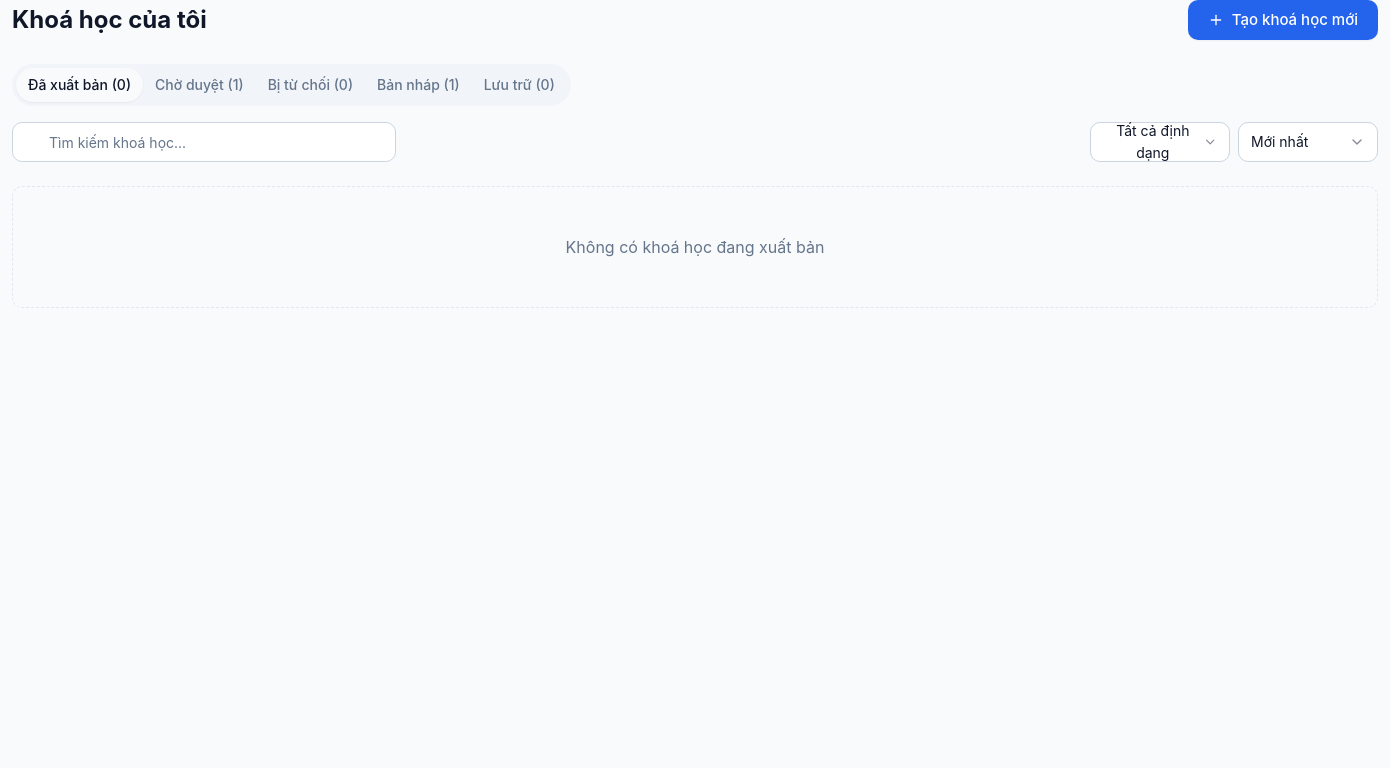
Test: /teacher/courses — nút xoá theo trạng thái › khoá nháp: vẫn có nút xoá
Click the tab "Bản nháp (1)": (418, 85) [365,68,472,102]
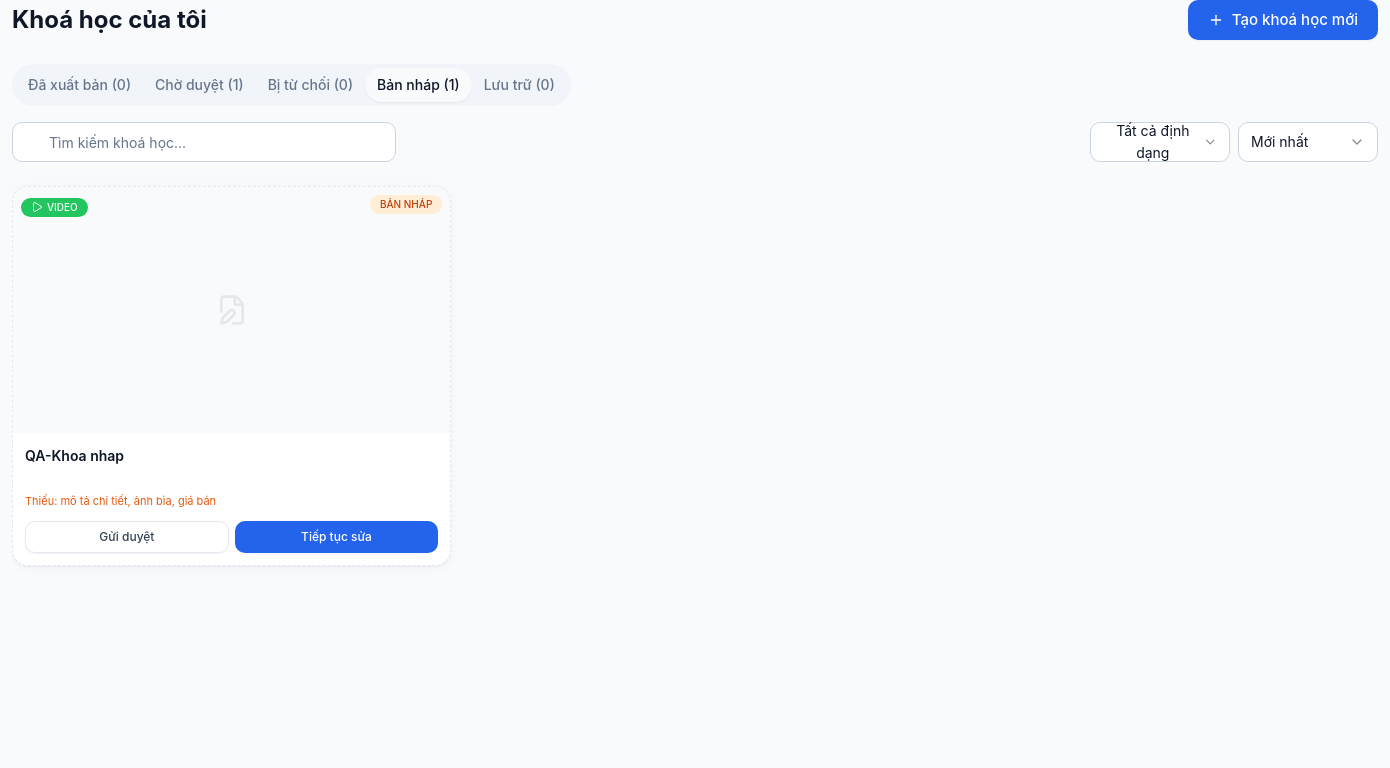
Check: the heading "QA-Khoa nhap" is shown, box [25,447,124,464]
